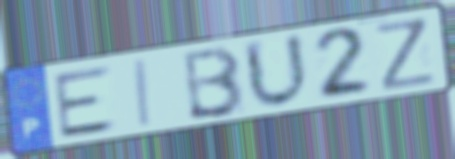2: (310, 25, 375, 105)
B: (183, 44, 248, 123)
E: (51, 62, 120, 142)
I: (134, 56, 155, 131)
U: (240, 30, 313, 112)
Z: (372, 14, 440, 93)
